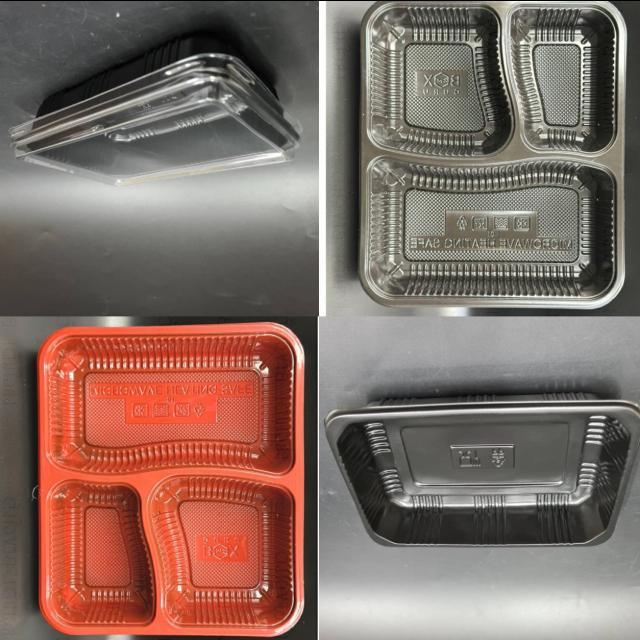plastik: (38, 322, 304, 636), (360, 0, 626, 308), (325, 392, 640, 544), (10, 33, 302, 184)
